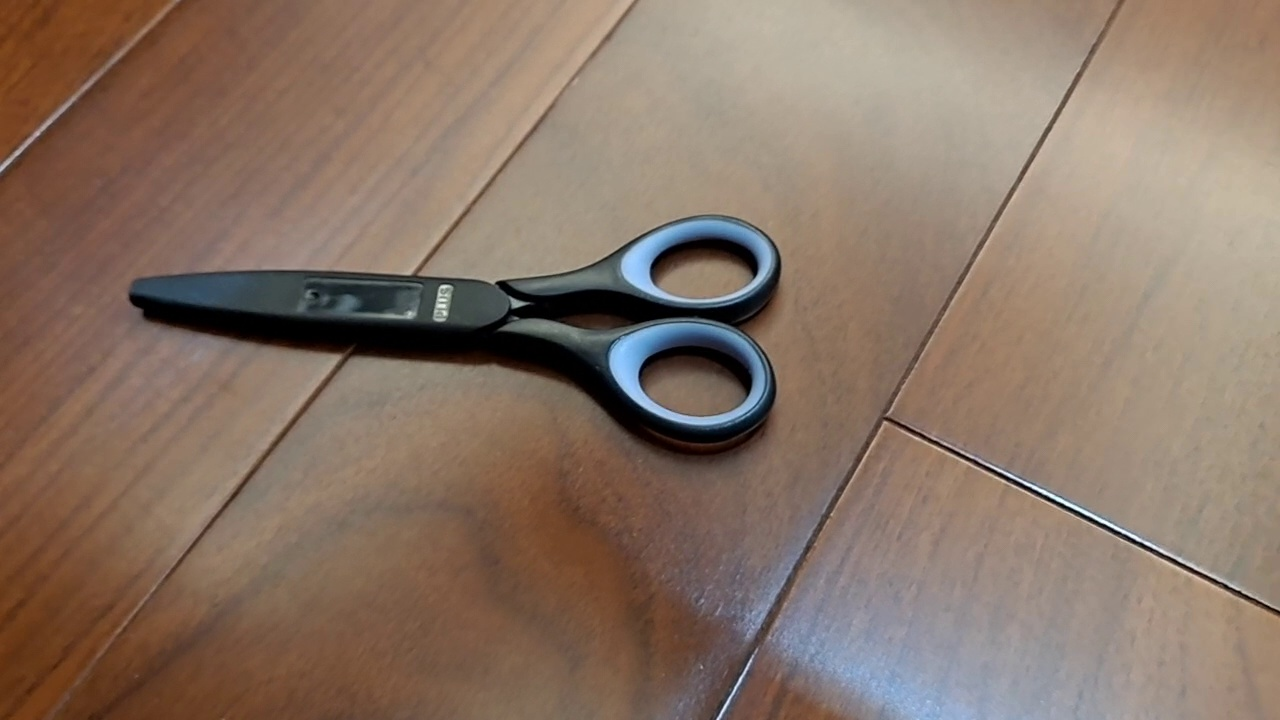scissors: (127, 213, 782, 446)
